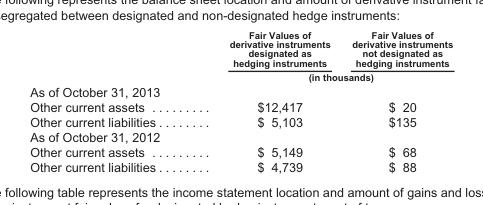table: (29, 28, 452, 174)
table column: (29, 28, 191, 174), (191, 28, 340, 174), (340, 28, 452, 174)
table column header: (29, 28, 452, 83)
table projected row header: (29, 83, 452, 98), (29, 129, 452, 144)
table row: (29, 28, 452, 69), (29, 113, 452, 129), (29, 83, 452, 98), (29, 98, 452, 113), (29, 129, 452, 144), (29, 144, 452, 159), (29, 159, 452, 174), (29, 69, 452, 83)
table spanning cell: (191, 69, 452, 83)
